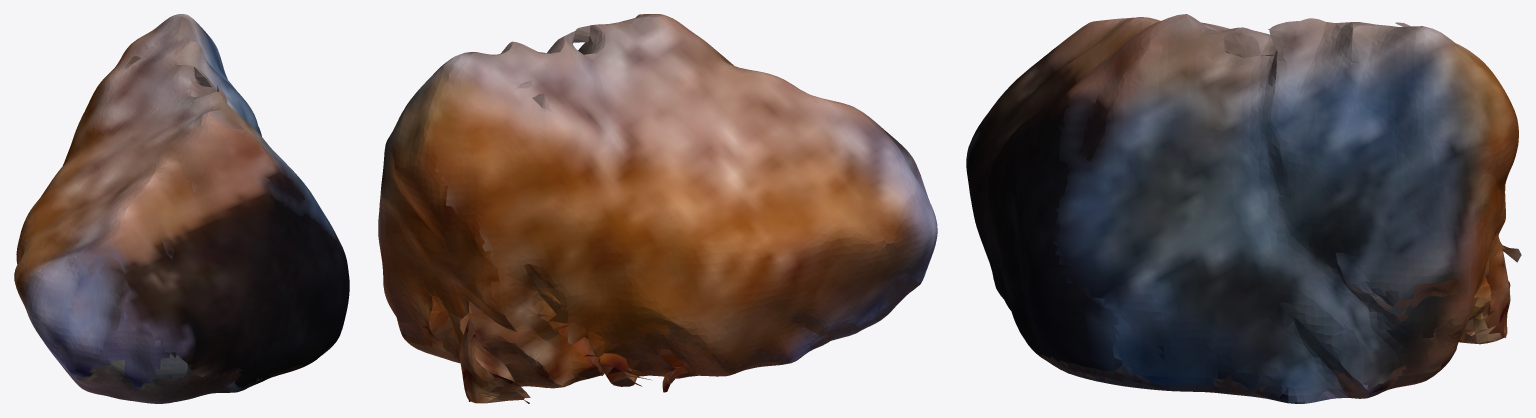
The model's file is model_New Qlone.obj.
3 views of the same model, side by side, from view 1: azimuth 30°, elevation 25°; view 2: azimuth 150°, elevation 25°; view 3: azimuth 270°, elevation 25° (orthographic). The views are drawn at different scales.
Bounding box in the file's own units: 37.5 × 26.81 × 40.22.
Materials: 1 (1 with a texture image).
